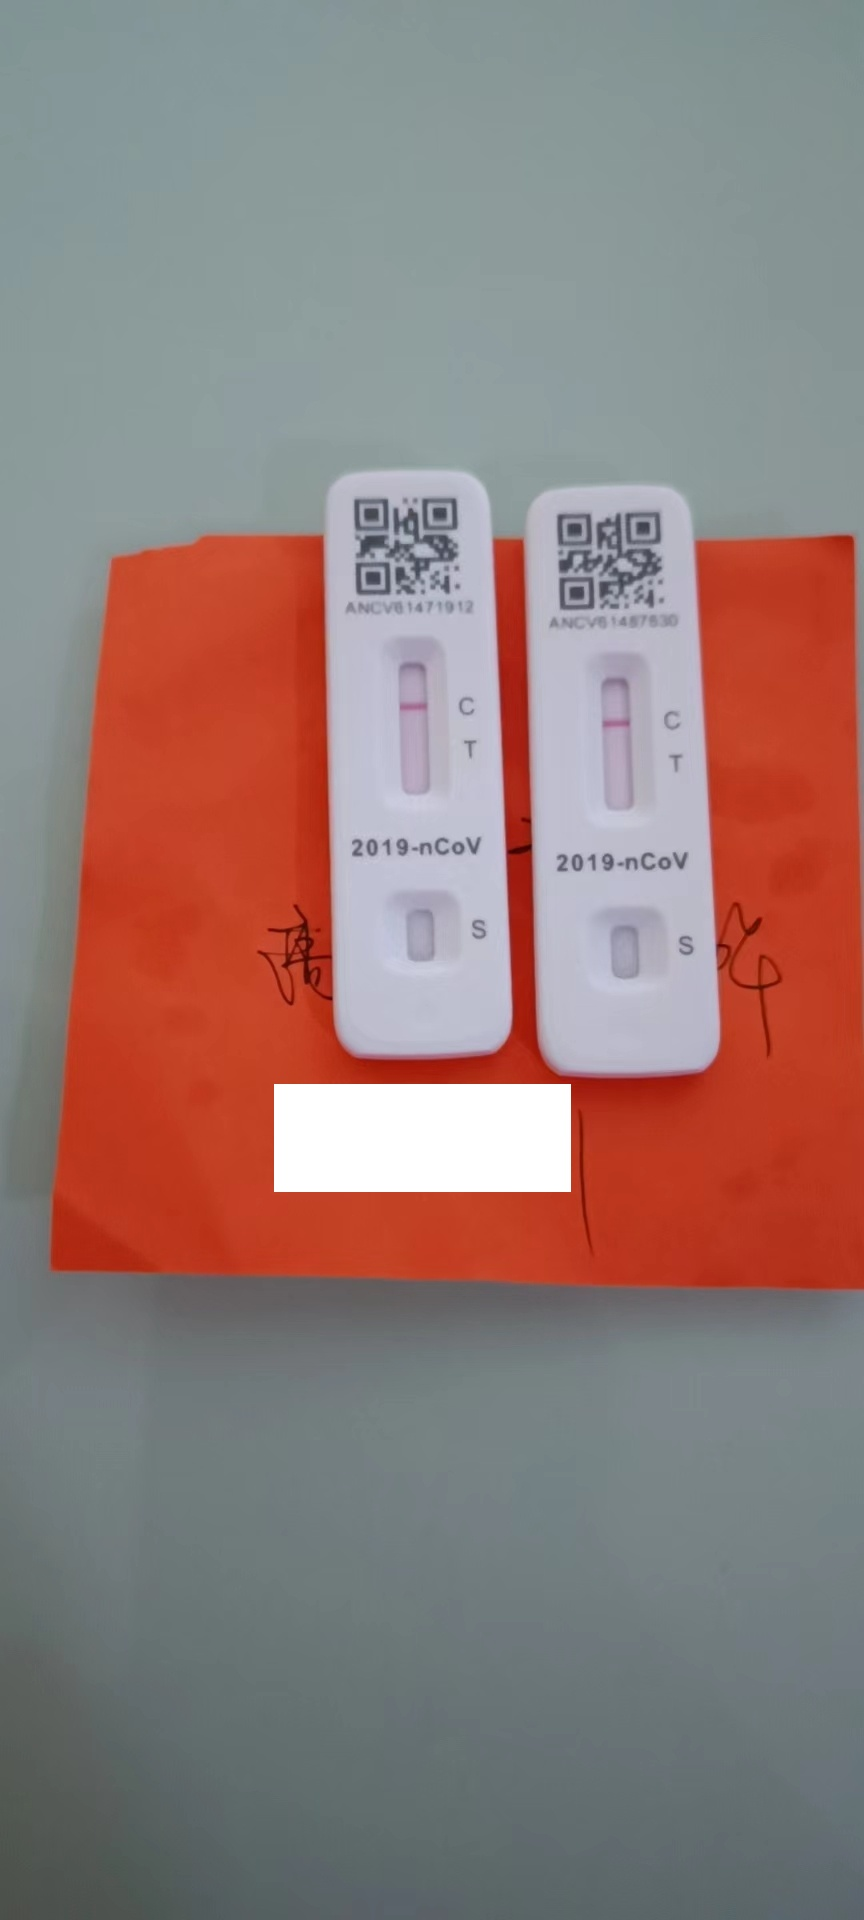negative: (587, 651, 651, 820), (382, 640, 444, 801)
